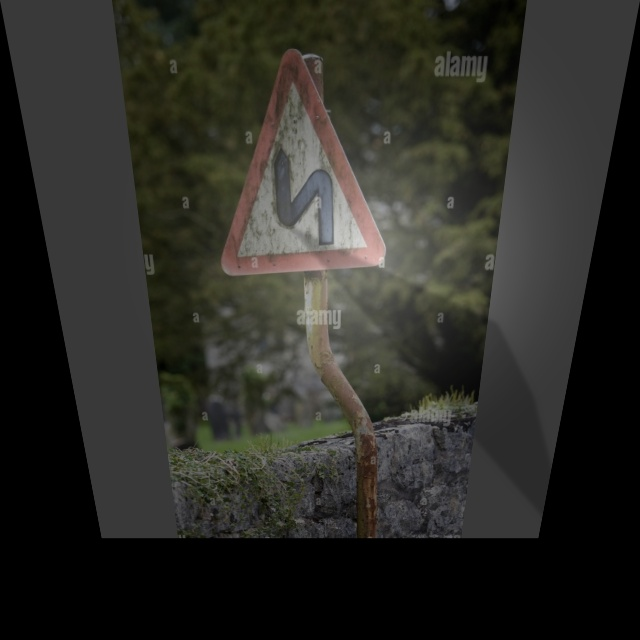Left_Reverse_Bend: (205, 49, 398, 272)
